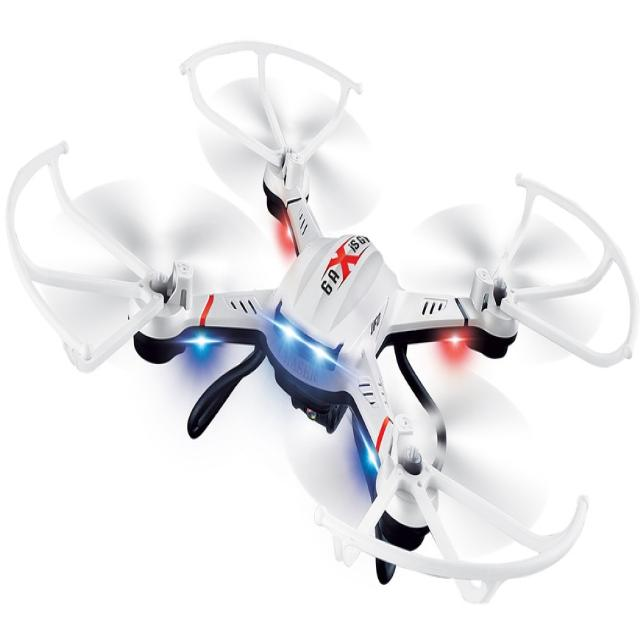drone: (34, 16, 636, 640)
